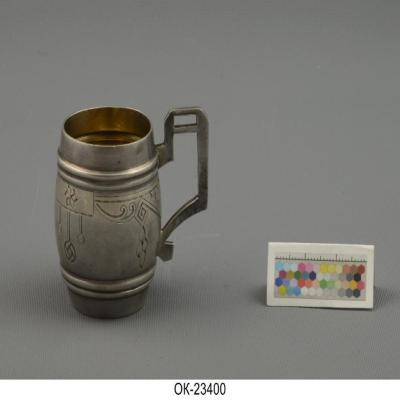dpi: (54, 107, 209, 322)
